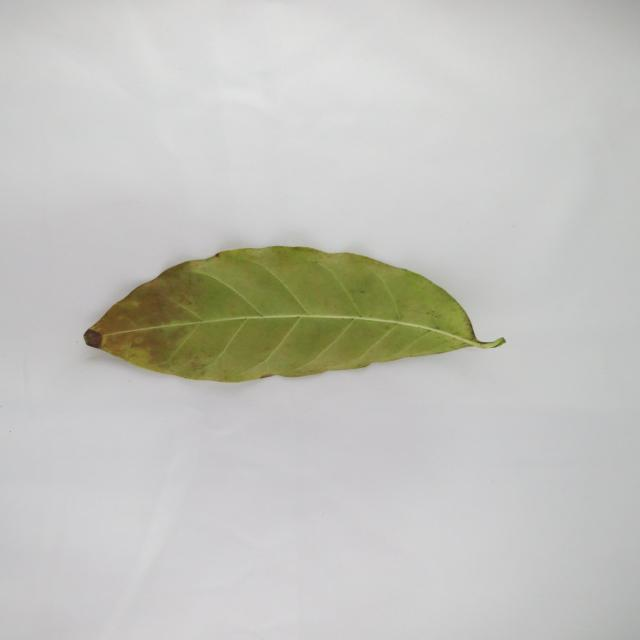DeficienciaNutricional-Potasio: (85, 246, 505, 382)
